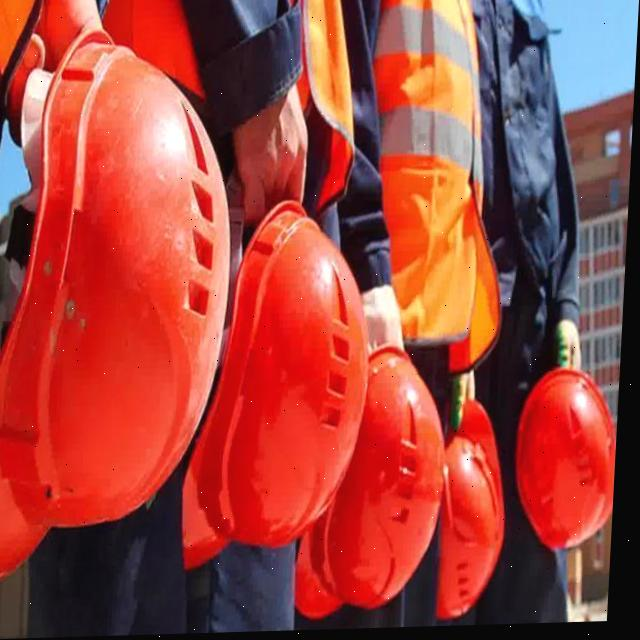Helmet: (0, 59, 223, 579), (517, 376, 623, 556)
